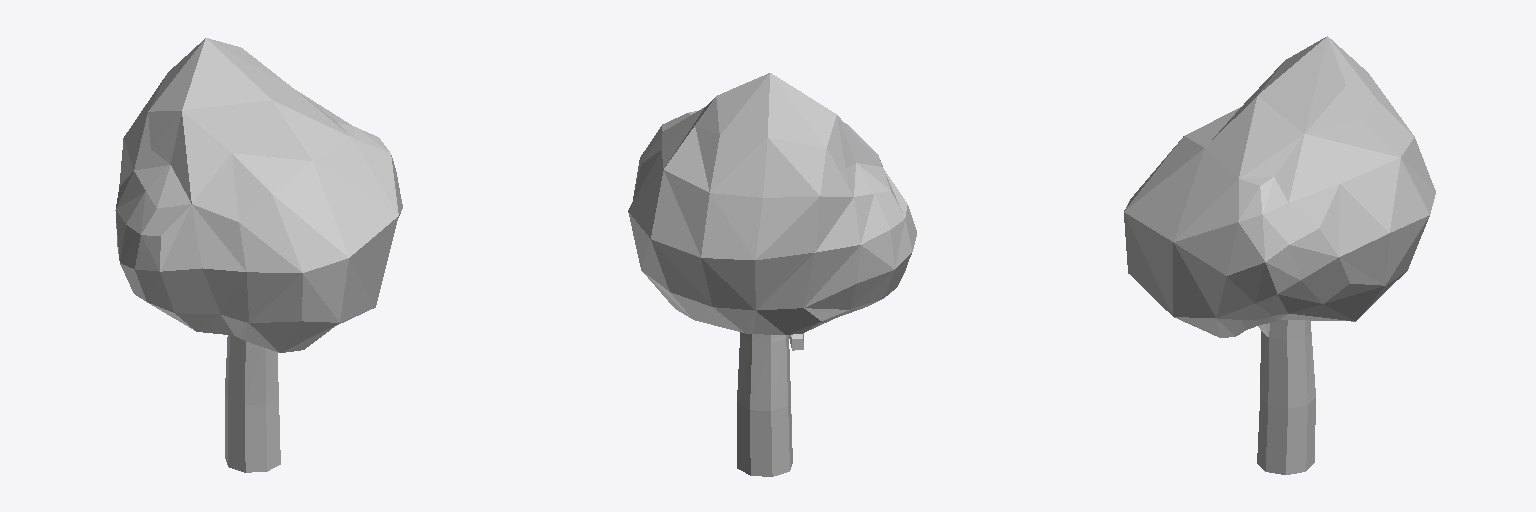
File: ArtAssets.obj
The picture shows the model from 3 angles: view 1: azimuth 30°, elevation 25°; view 2: azimuth 150°, elevation 25°; view 3: azimuth 270°, elevation 25°; orthographic projection.
Visible parts, largest first — view 1: WOH_Asset_ShortTree_ShortTree; view 2: WOH_Asset_ShortTree_ShortTree; view 3: WOH_Asset_ShortTree_ShortTree.
Boxes of the visible parts, x1=… form: WOH_Asset_ShortTree_ShortTree: x1=115, y1=38, x2=402, y2=472; WOH_Asset_ShortTree_ShortTree: x1=628, y1=73, x2=916, y2=476; WOH_Asset_ShortTree_ShortTree: x1=1124, y1=36, x2=1435, y2=474.
Size of the model in its own units: 8.58 by 12.78 by 8.73.